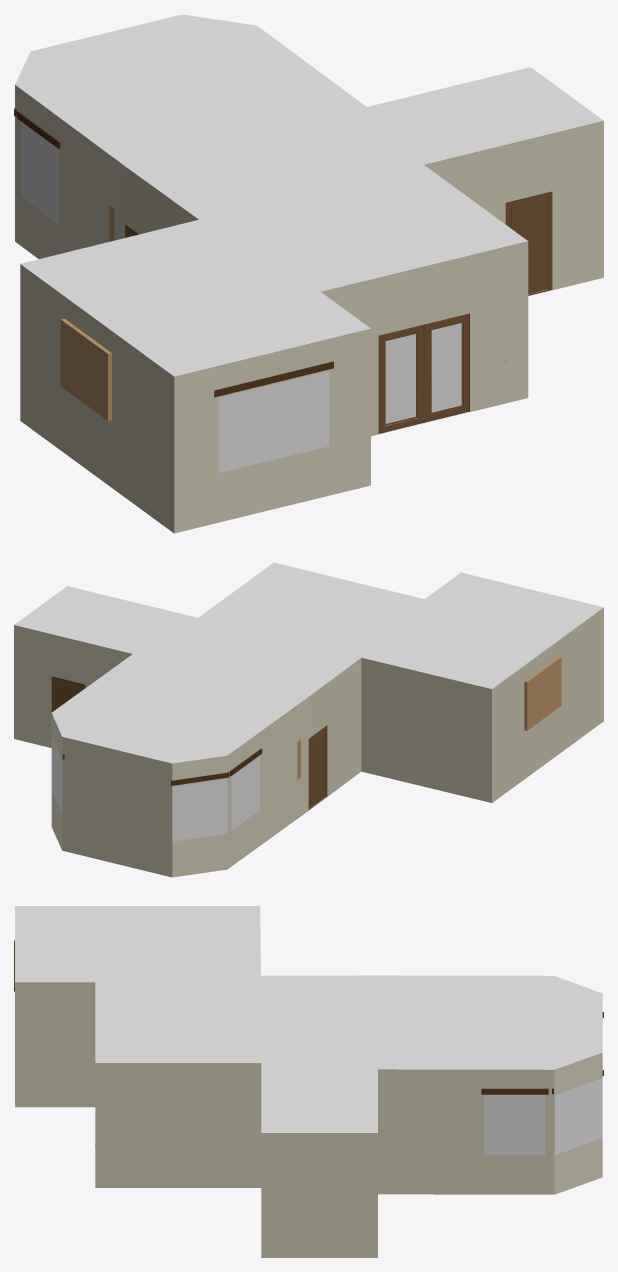
File: HousePlan_V9.fbx
3 renders of one model, top to bottom at view 1: azimuth 30°, elevation 25°; view 2: azimuth 150°, elevation 25°; view 3: azimuth 270°, elevation 25°, orthographic. The views are drawn at different scales.
Parts seen in each view (by area): view 1: HouseBase, Windows, FrontDoorWindows, Frame4, LargeBlind; view 2: HouseBase, Windows, Frame4, SmallBlind; view 3: HouseBase, Windows, SmallBlind.
Part boxes in pixels (<box>): HouseBase: <box>15,14,603,533</box>; Windows: <box>21,121,329,472</box>; FrontDoorWindows: <box>385,323,461,423</box>; Frame4: <box>60,318,111,420</box>; LargeBlind: <box>214,361,333,397</box>; HouseBase: <box>14,562,603,877</box>; Windows: <box>51,736,259,841</box>; Frame4: <box>524,656,561,730</box>; SmallBlind: <box>62,748,262,785</box>; HouseBase: <box>15,906,602,1257</box>; Windows: <box>484,1078,602,1155</box>; SmallBlind: <box>481,1012,603,1094</box>.
Bounding box in the file's own units: 23507 × 6053 × 25648.
